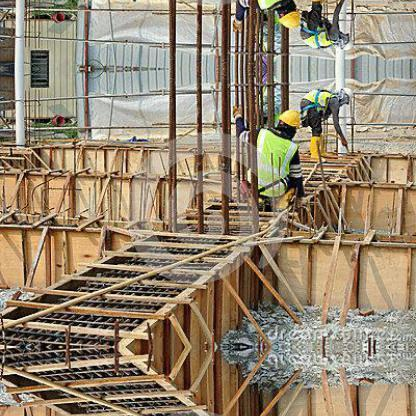helmet: (272, 104, 302, 130), (337, 86, 353, 111)
